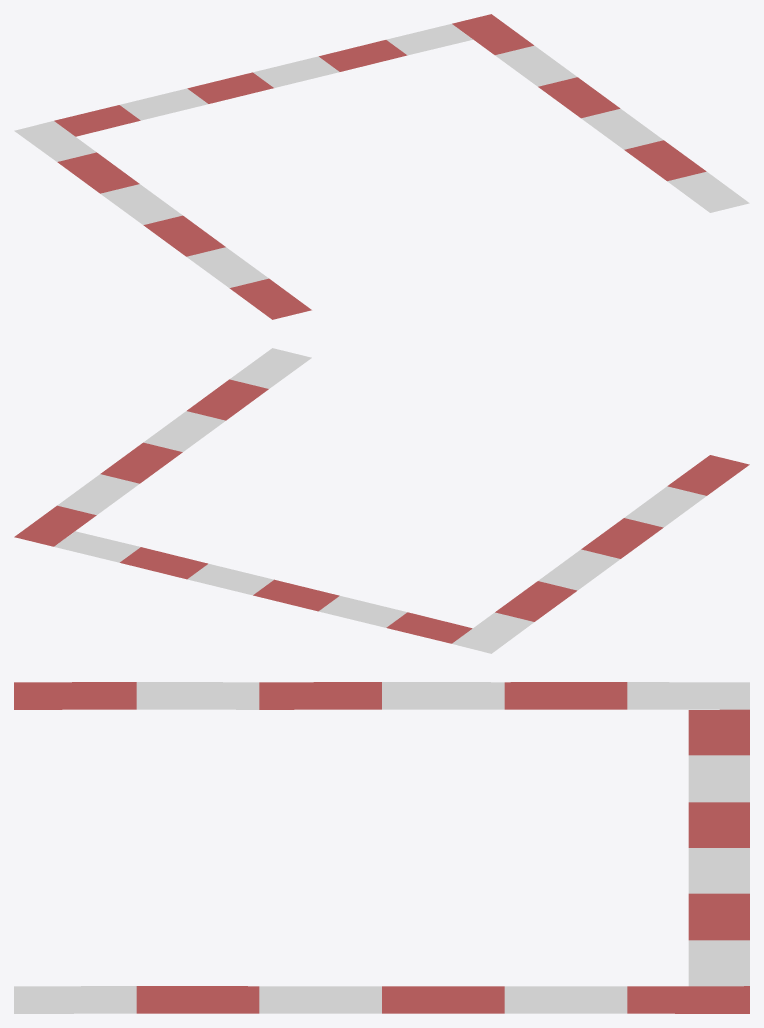
File: Dead End Guides.fbx
3 views of the same model, one above another, from view 1: azimuth 30°, elevation 25°; view 2: azimuth 150°, elevation 25°; view 3: azimuth 270°, elevation 25° (orthographic). The views are drawn at different scales.
Visible parts, largest first — view 1: Dead End Guides; view 2: Dead End Guides; view 3: Dead End Guides.
Boxes of the visible parts, x1,y1,x2,y2 form: Dead End Guides: [14, 14, 749, 319]; Dead End Guides: [14, 348, 749, 653]; Dead End Guides: [14, 682, 749, 1013].
Size of the model in its own units: 2.4 by 0.00191 by 2.25.
